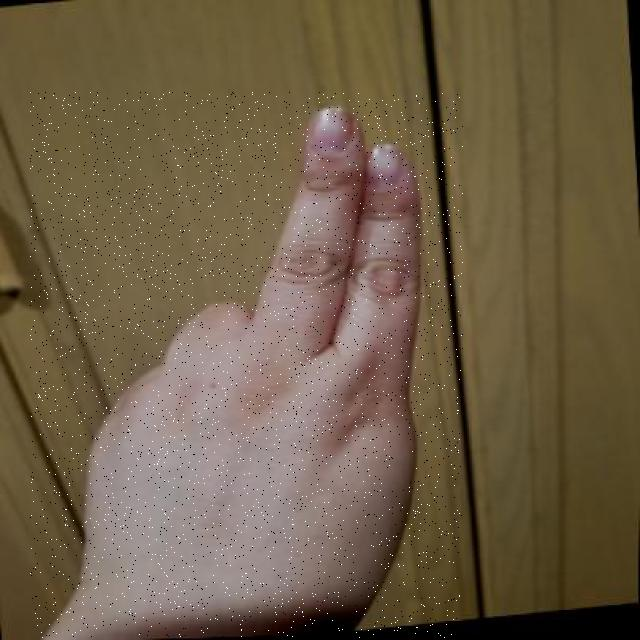U: (30, 92, 463, 638)
